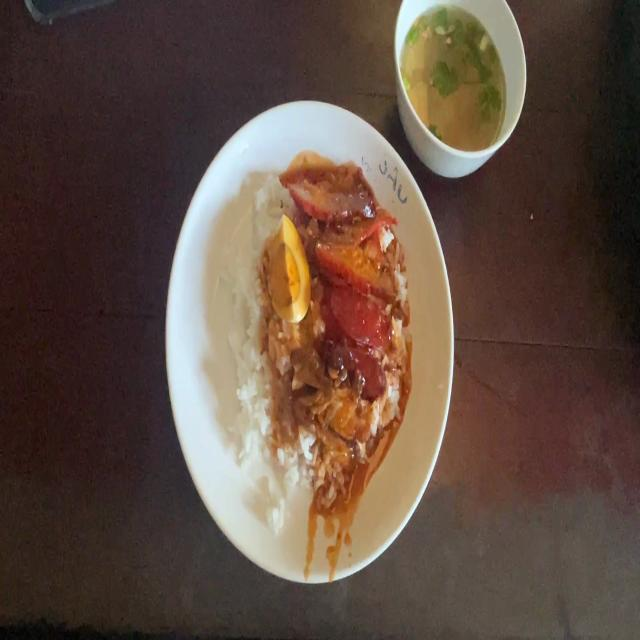01boiled_egg: (265, 218, 314, 322)
01chainese_sausage: (321, 287, 394, 388)
01crispy_pork: (304, 386, 367, 466)
01red_pork: (303, 163, 405, 279)
01red_pork_and_crispy_pork: (224, 158, 412, 525)
01rice: (239, 322, 308, 498), (234, 240, 264, 331), (252, 177, 286, 236)
